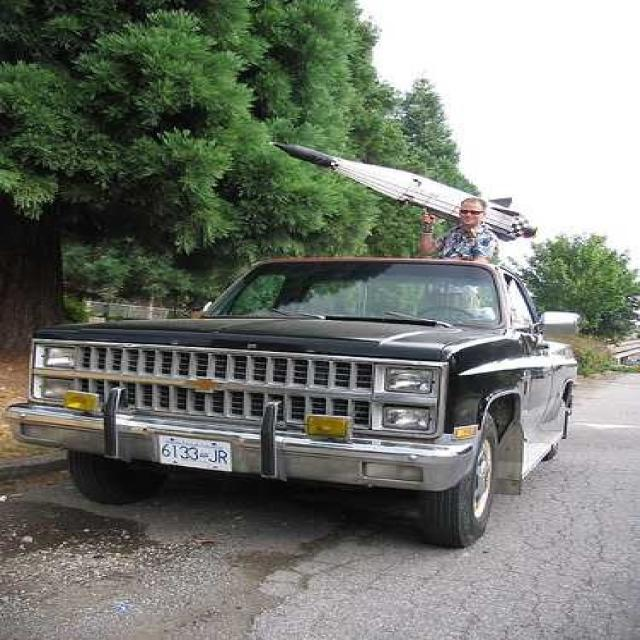missile: (267, 136, 539, 242)
